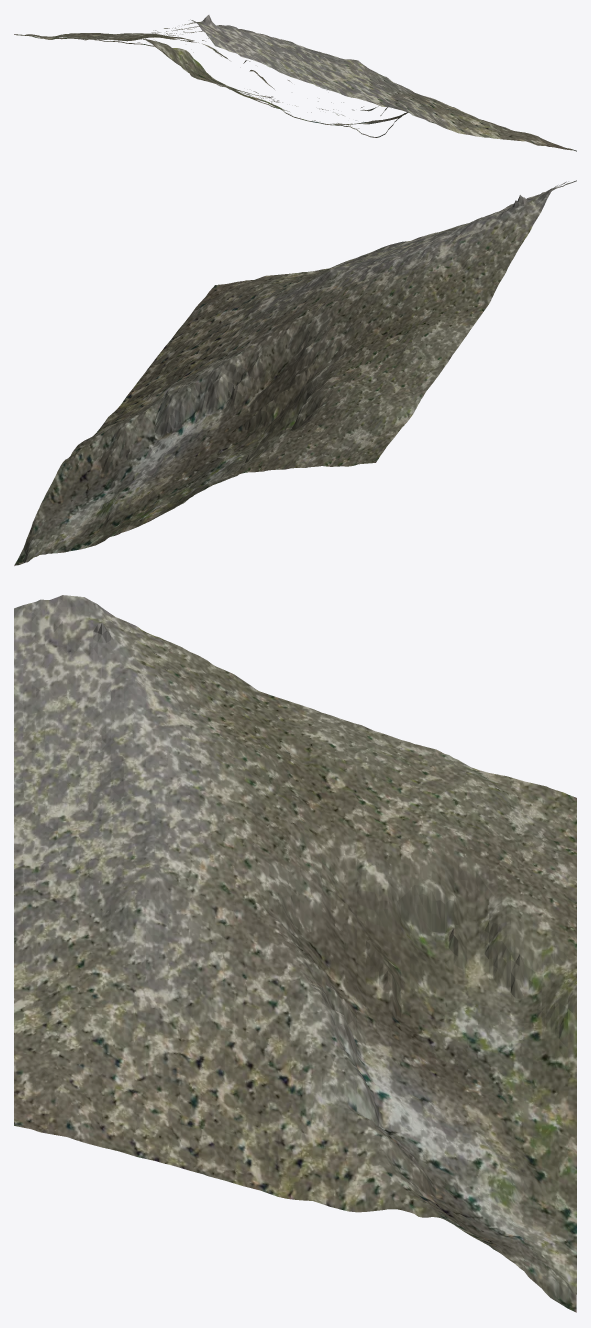
3 views of the same model, one above another, from view 1: azimuth 30°, elevation 25°; view 2: azimuth 150°, elevation 25°; view 3: azimuth 270°, elevation 25° (orthographic). The views are drawn at different scales.
Size of the model in its own units: 500 by 445 by 481.
Materials: 1 (1 with a texture image).
